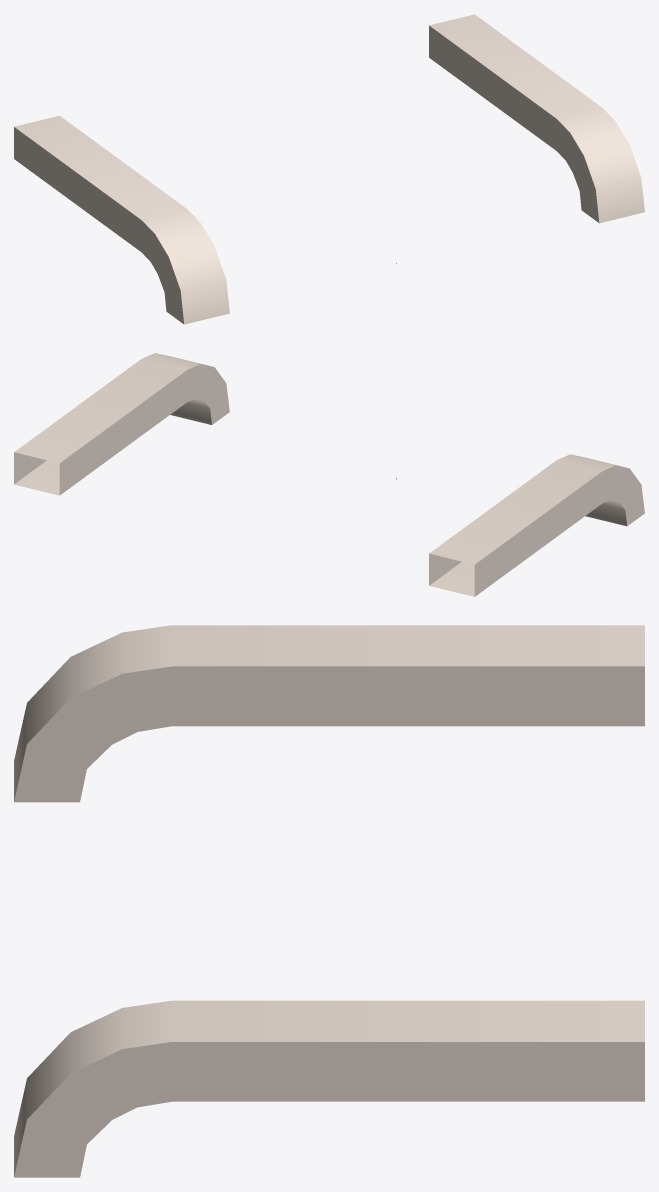
Rendered from MeshTelevisionStand_18_1_GeomSubset_1.obj.
3 renders of one model, top to bottom at view 1: azimuth 30°, elevation 25°; view 2: azimuth 150°, elevation 25°; view 3: azimuth 270°, elevation 25°, orthographic. The views are drawn at different scales.
Parts seen in each view (by area): view 1: MeshTelevisionStand_18_1_GeomSubset_1; view 2: MeshTelevisionStand_18_1_GeomSubset_1; view 3: MeshTelevisionStand_18_1_GeomSubset_1.
Part boxes in pixels (x1,y1,x2,y2): MeshTelevisionStand_18_1_GeomSubset_1: [14, 14, 644, 324]; MeshTelevisionStand_18_1_GeomSubset_1: [14, 353, 644, 596]; MeshTelevisionStand_18_1_GeomSubset_1: [14, 625, 644, 1177].
Size of the model in its own units: 0.5914 by 0.1008 by 0.3785.
